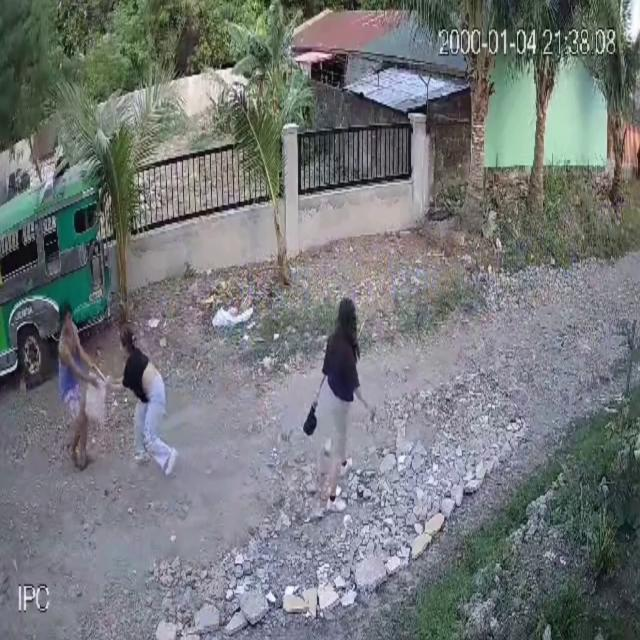walking: (296, 302, 376, 518)
